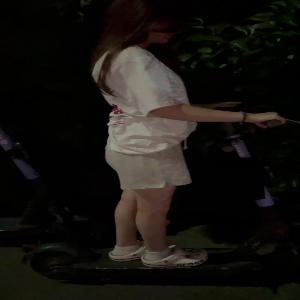human on a scooter: (15, 1, 300, 285)
